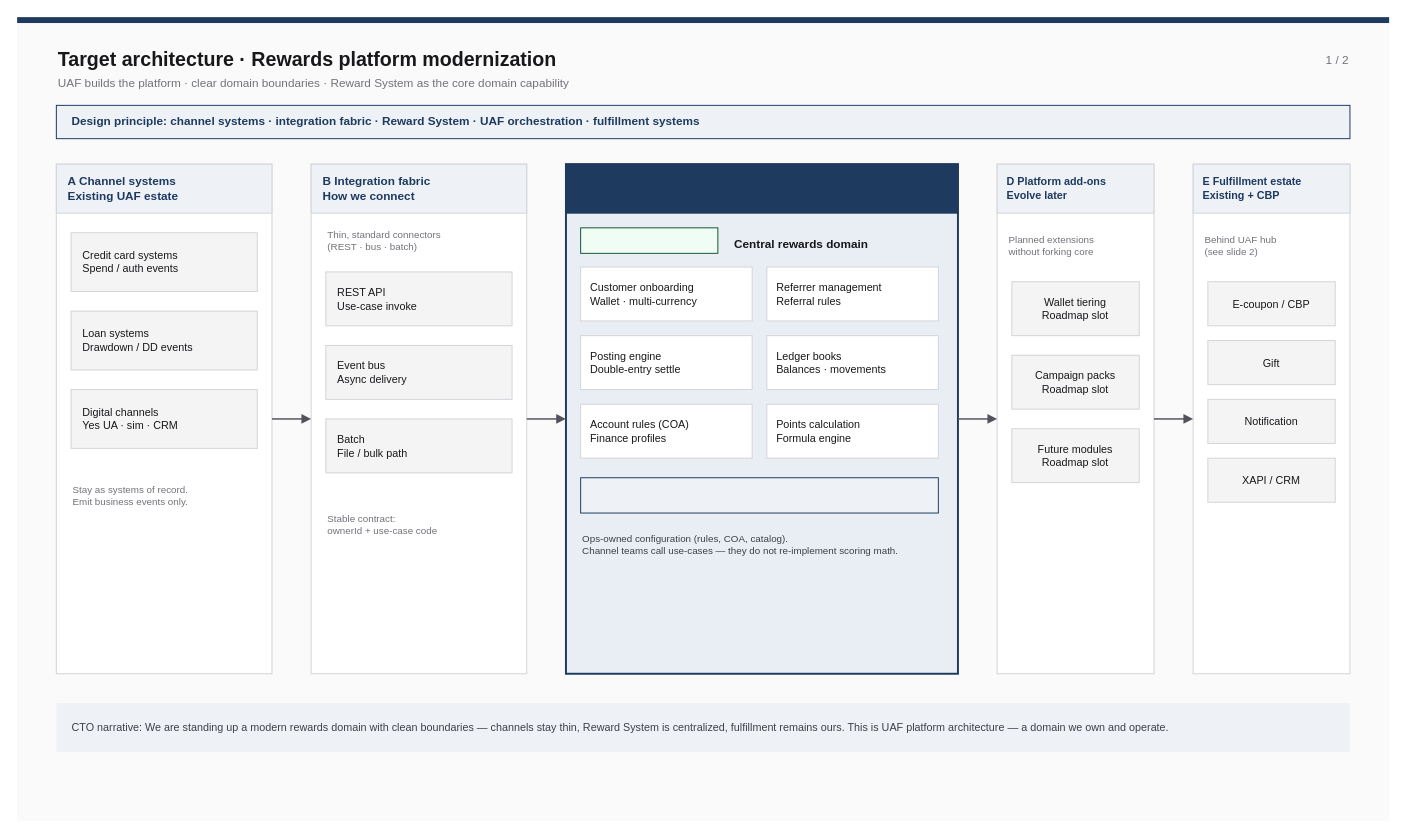
Image size: 1405x837. Some labels were removed from this diagram. Each missing label, with the centre of its shape:
C Reward System New core domain: the point at 761,188
NEW DOMAIN BUILD: the point at 649,240
Runtime: event → admit → calculate → post → books → outbound: the point at 759,495
